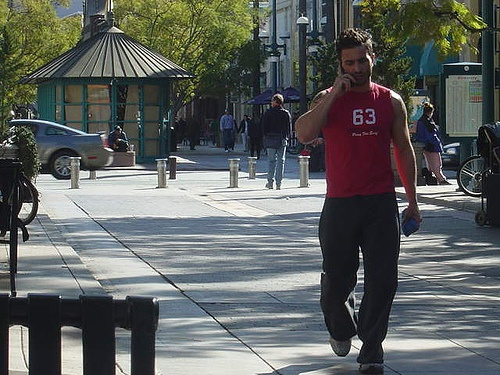non-vehicle: (455, 155, 488, 197), (17, 170, 40, 224)
